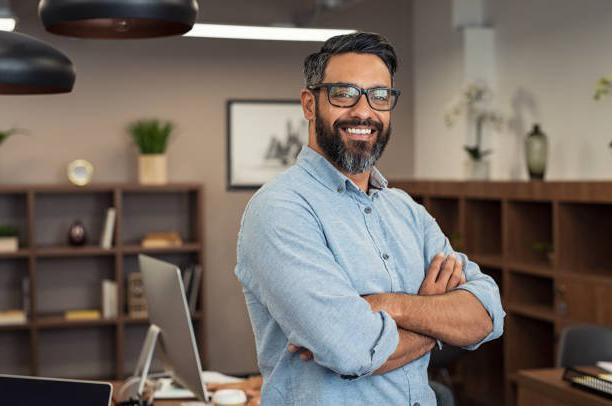Sober: (328, 57, 391, 151)
